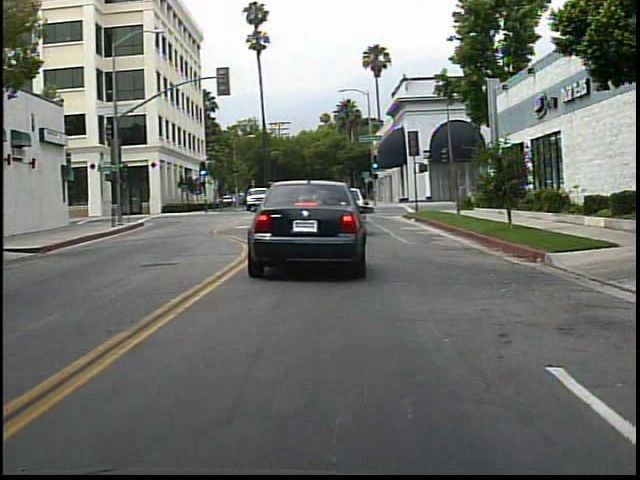person: (325, 179, 351, 220)
